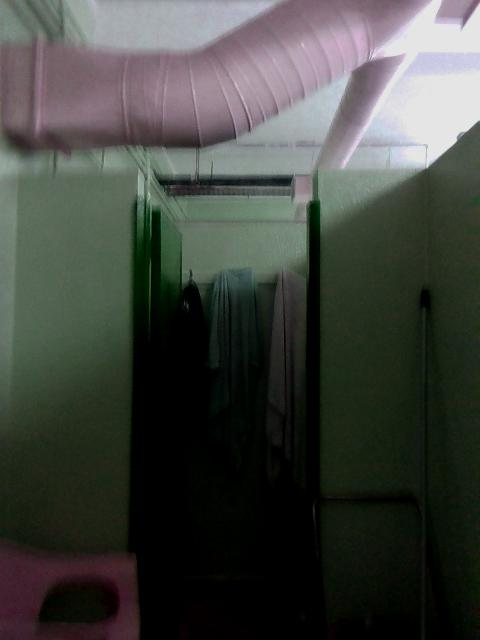open_door: (133, 166, 323, 638)
